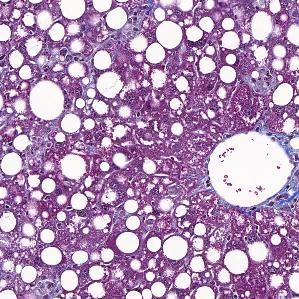fibrosis: (267, 187, 299, 225)
